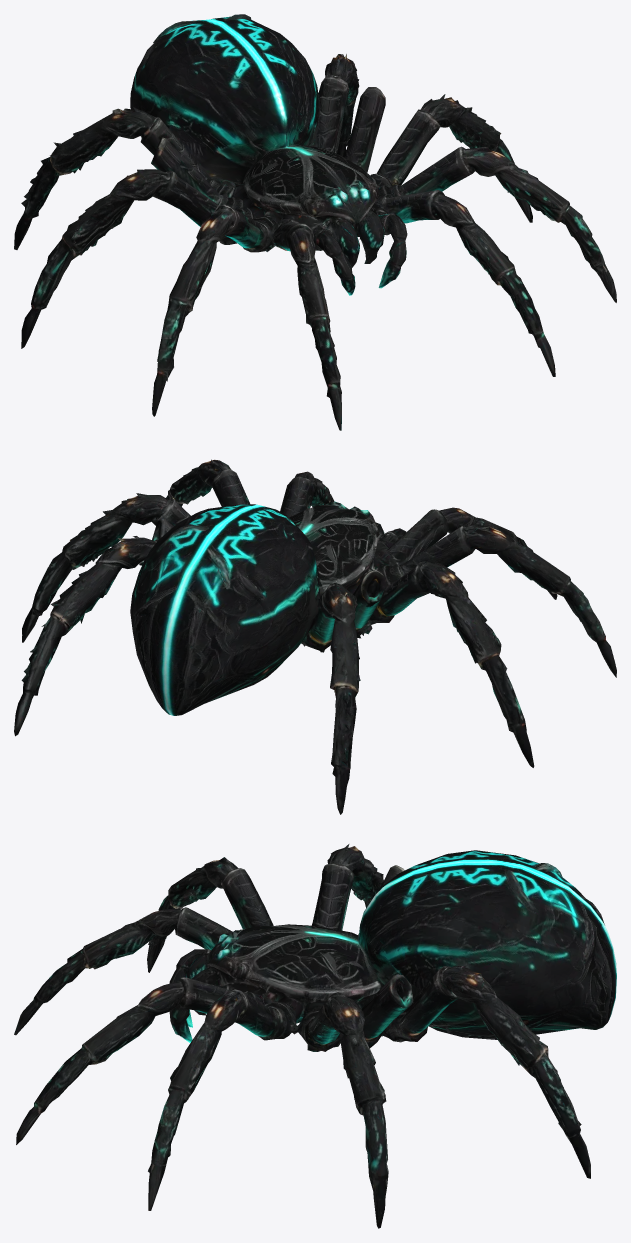
Rendered from poisonguard-spider-web.glb.
3 renders of one model, top to bottom at view 1: azimuth 30°, elevation 25°; view 2: azimuth 150°, elevation 25°; view 3: azimuth 270°, elevation 25°, orthographic. The views are drawn at different scales.
Parts seen in each view (by area): view 1: Mesh1.0; view 2: Mesh1.0; view 3: Mesh1.0.
Part boxes in pixels (left/top/right/bottom): Mesh1.0: left=14, top=14, right=616, bottom=430; Mesh1.0: left=14, top=459, right=616, bottom=814; Mesh1.0: left=14, top=844, right=616, bottom=1228.
Bounding box in the file's own units: 1.93 × 0.8026 × 1.85.
1 material, 1 textured.
